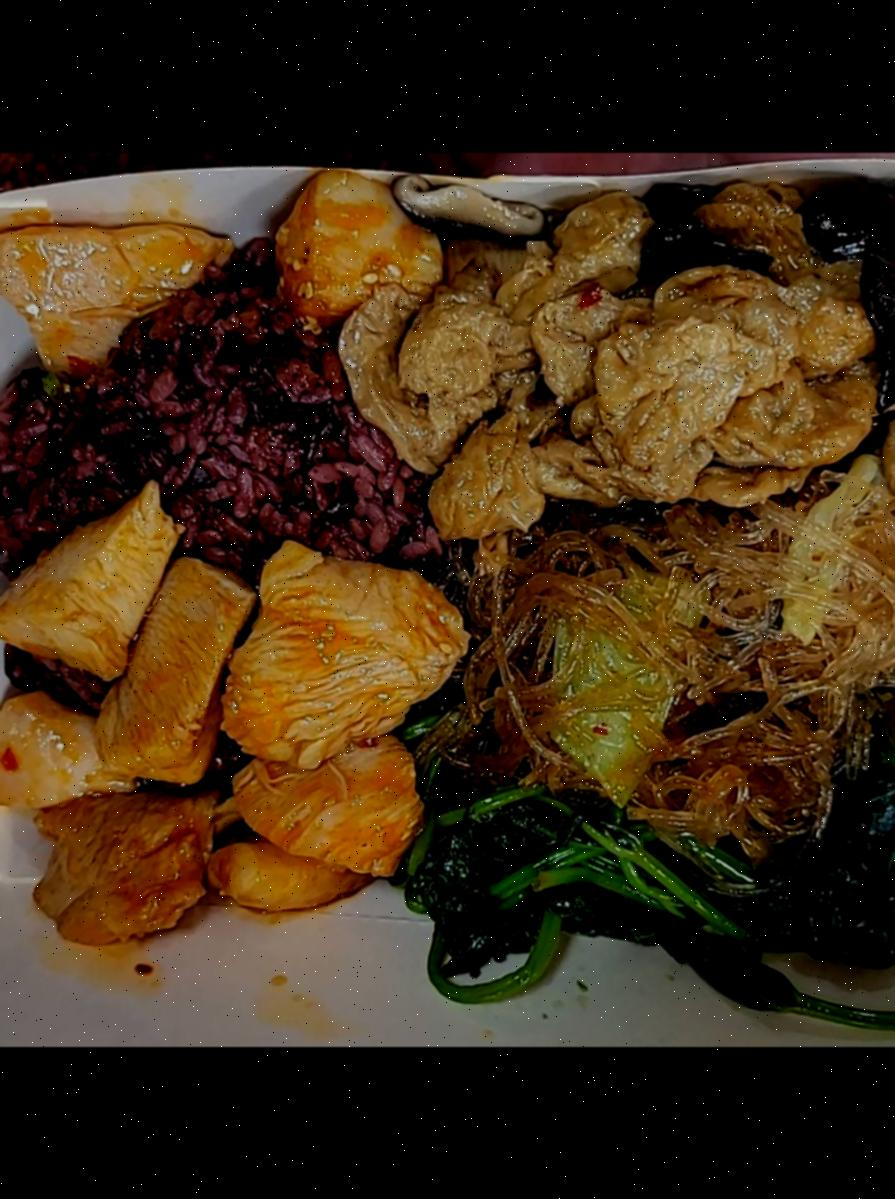box: (0, 162, 895, 1018)
purple rice: (0, 255, 446, 790)
side dish: (371, 195, 895, 513), (391, 695, 895, 1025), (461, 495, 895, 807)
spicy chicken: (0, 520, 464, 945), (0, 175, 426, 373)
